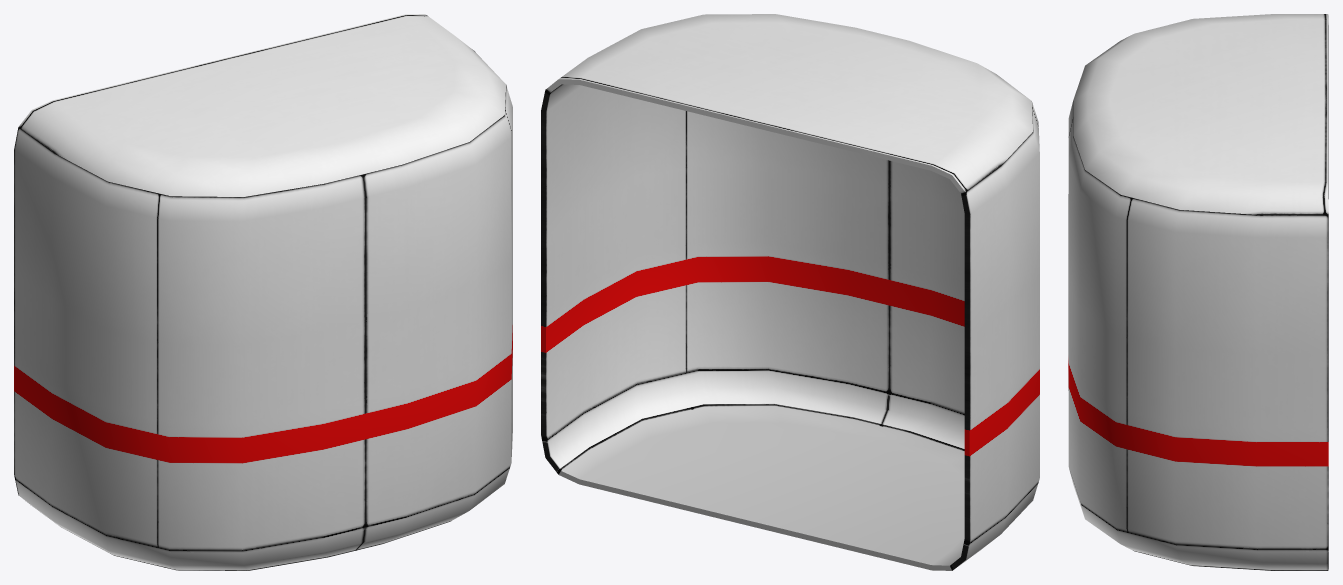
File: Geo_Hallway_End 1.FBX
The picture shows the model from 3 angles, left to right: view 1: azimuth 30°, elevation 25°; view 2: azimuth 150°, elevation 25°; view 3: azimuth 270°, elevation 25°; orthographic projection. The views are drawn at different scales.
Parts seen in each view (by area): view 1: HallWay_End2; view 2: HallWay_End2; view 3: HallWay_End2.
Part boxes in pixels (x1=…): HallWay_End2: x1=14, y1=14, x2=512, y2=570; HallWay_End2: x1=541, y1=14, x2=1039, y2=570; HallWay_End2: x1=1068, y1=14, x2=1328, y2=570.
Size of the model in its own units: 2.56 by 2.31 by 1.42.
